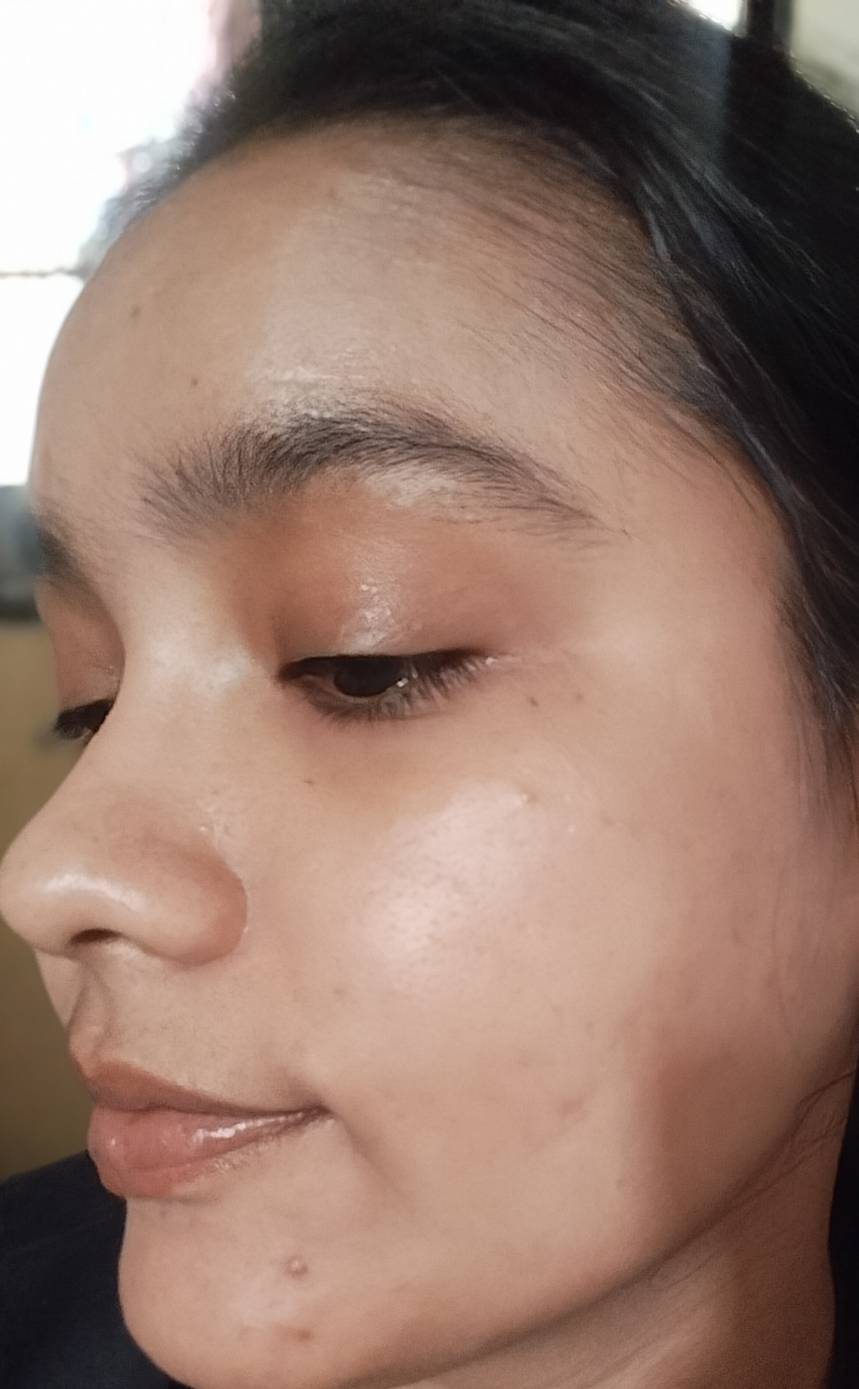papule: (268, 1245, 350, 1302), (492, 761, 570, 816)
